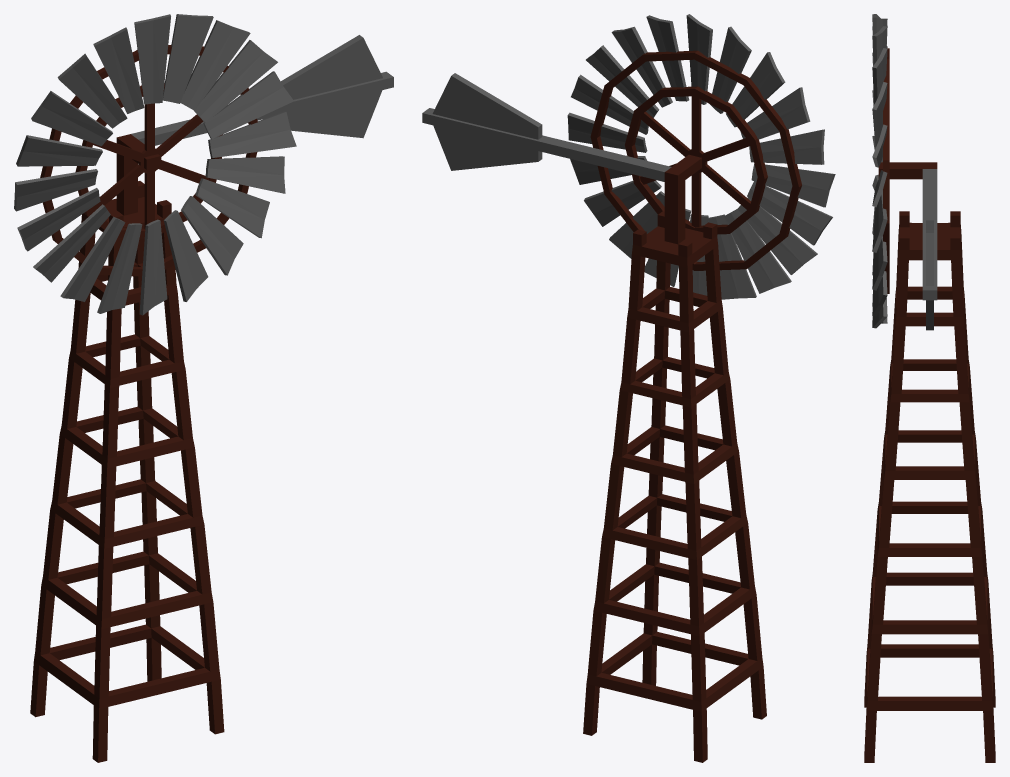
Rendered from Windmill.obj.
3 renders of one model, left to right at view 1: azimuth 30°, elevation 25°; view 2: azimuth 150°, elevation 25°; view 3: azimuth 270°, elevation 25°, orthographic. The views are drawn at different scales.
Parts seen in each view (by area): view 1: Windmill_Windmill.001; view 2: Windmill_Windmill.001; view 3: Windmill_Windmill.001.
Boxes of the visible parts, x1,y1,x2,y2 form: Windmill_Windmill.001: [14, 14, 393, 762]; Windmill_Windmill.001: [422, 14, 835, 762]; Windmill_Windmill.001: [864, 14, 995, 762].
Size of the model in its own units: 6.51 by 11.2 by 1.9.
